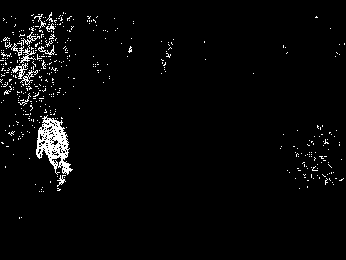person: (35, 109, 73, 191)
